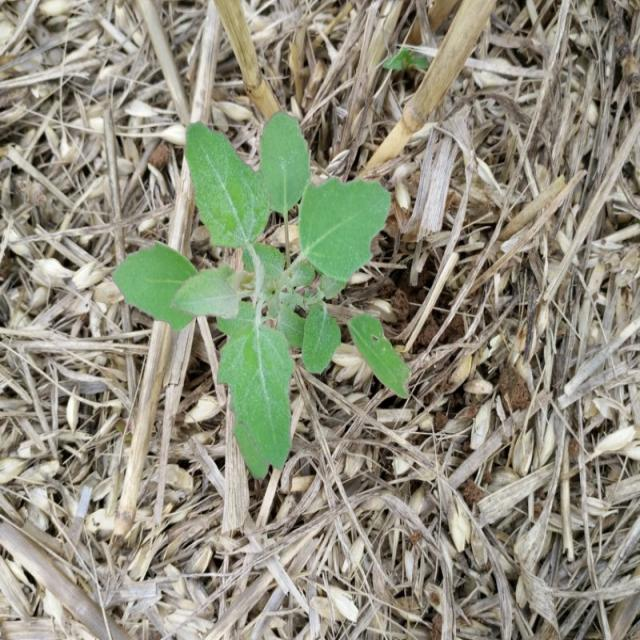ca: (114, 115, 411, 480)
